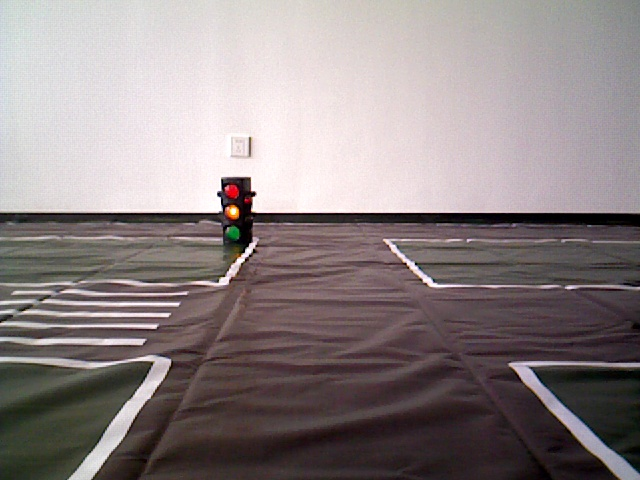yellow: (220, 178, 250, 249)
